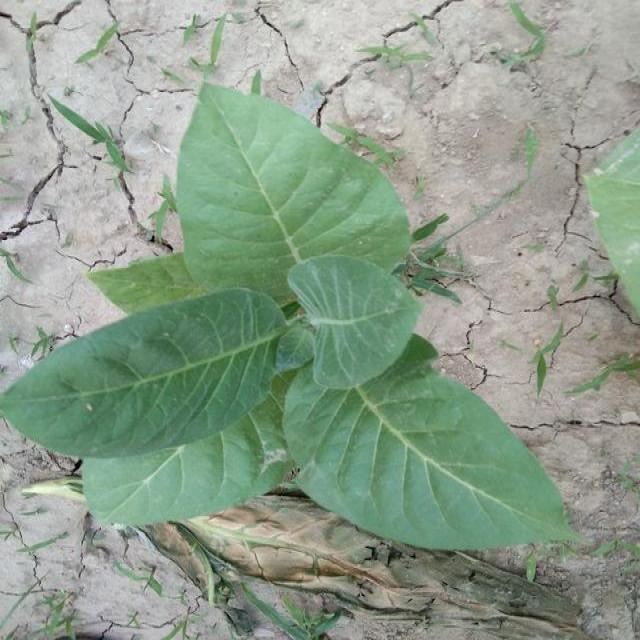crop: (1, 74, 583, 563)
